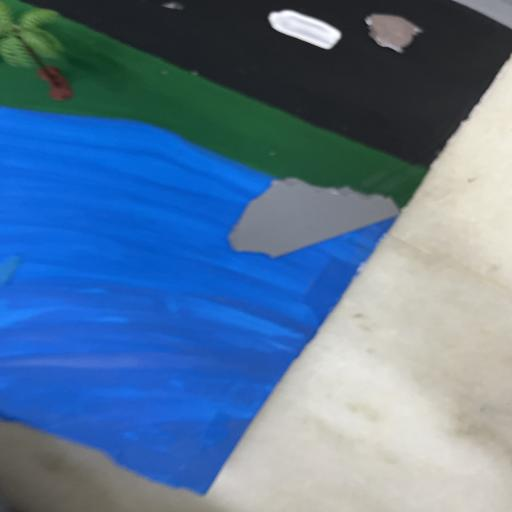encroachment: (224, 174, 402, 260)
porthole: (358, 11, 430, 55)
